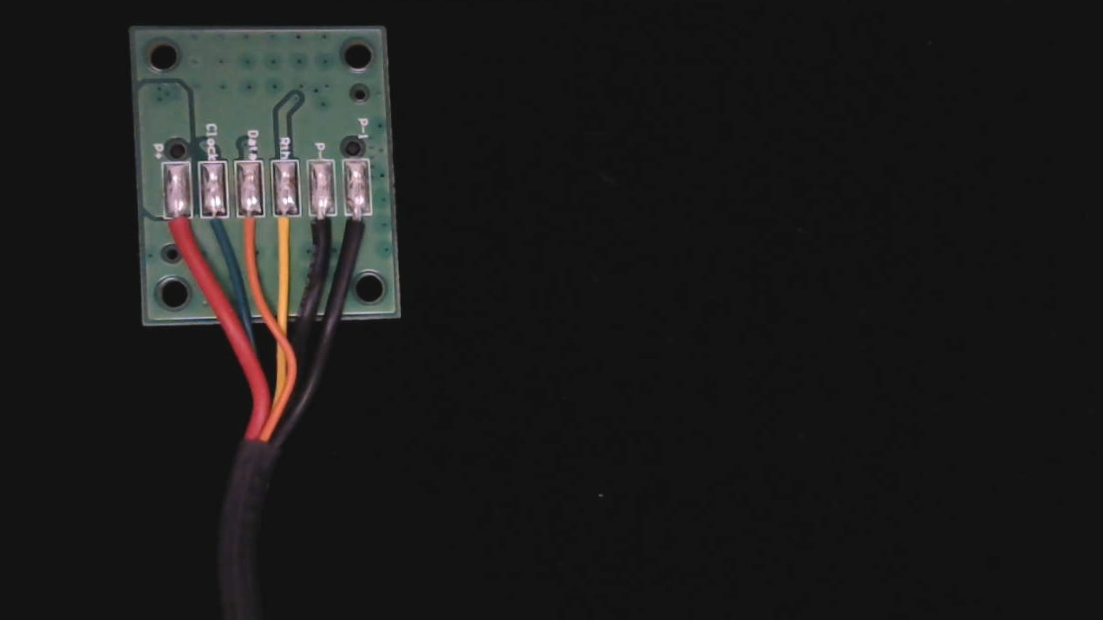Black: (307, 201, 339, 257)
Black1: (343, 200, 374, 259)
Green: (199, 202, 230, 254)
Orange: (236, 204, 266, 259)
Red: (162, 205, 195, 267)
Yellow: (270, 201, 300, 258)
